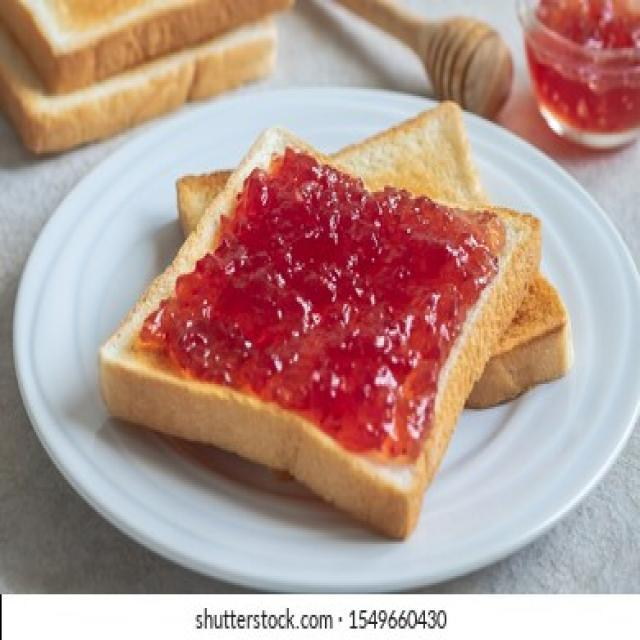Spread: (191, 169, 437, 453)
